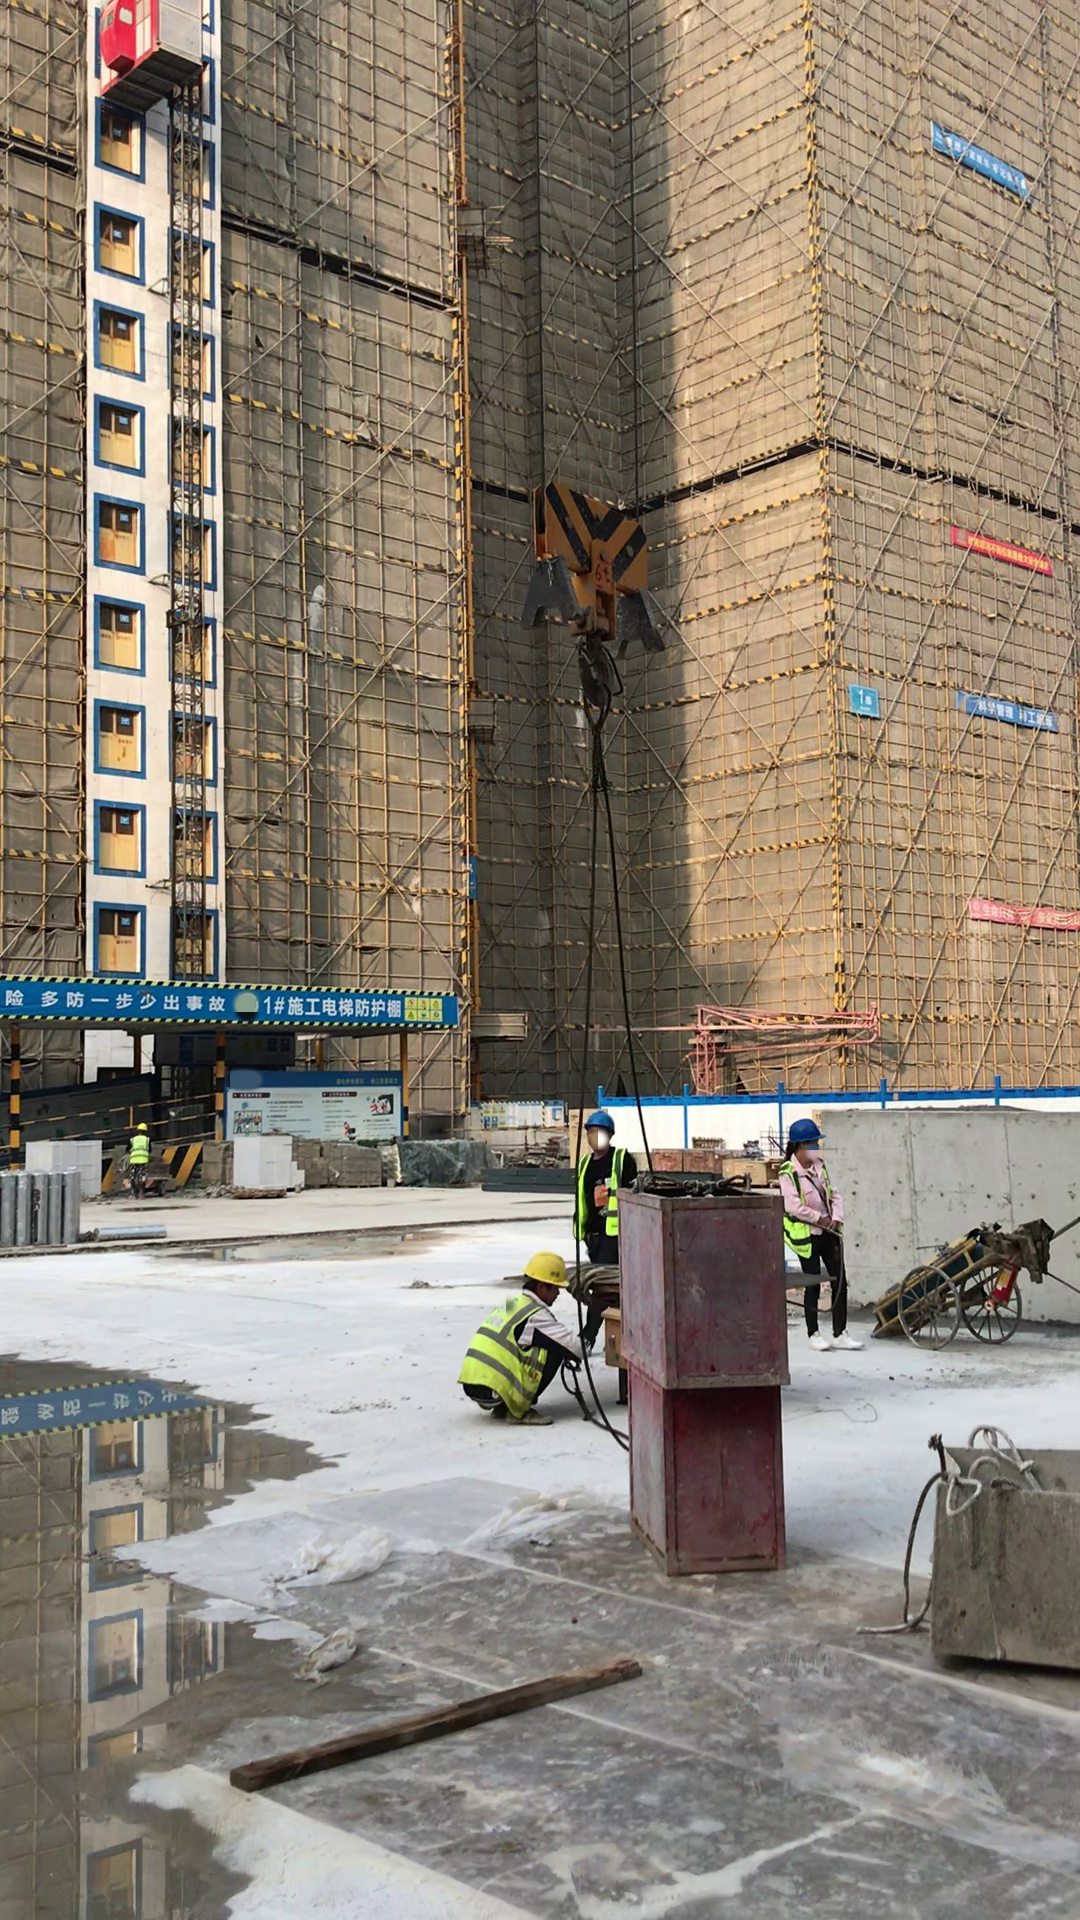brick: (14, 1135, 109, 1195), (224, 1135, 305, 1188)
ebox: (594, 1309, 625, 1369)
fence: (1, 1092, 217, 1178)
handcart: (870, 1210, 1080, 1374)
helmet: (518, 1239, 579, 1299), (777, 1111, 832, 1146), (575, 1099, 623, 1136), (131, 1115, 150, 1134)
hook: (505, 467, 715, 799)
hopper: (909, 1394, 1080, 1700)
person: (455, 1225, 601, 1484), (753, 1098, 886, 1361), (557, 1088, 657, 1334), (122, 1109, 168, 1194)
slogan: (1, 970, 462, 1044), (1, 1373, 193, 1467), (217, 1070, 413, 1142), (914, 116, 1048, 213), (947, 514, 1060, 587), (961, 887, 1080, 937), (961, 688, 1064, 739), (476, 1093, 564, 1133), (842, 679, 885, 722)
vest: (453, 1284, 573, 1415), (767, 1154, 849, 1256), (576, 1144, 630, 1249), (123, 1131, 154, 1170)
wood: (292, 1133, 385, 1191), (199, 1137, 234, 1185)
